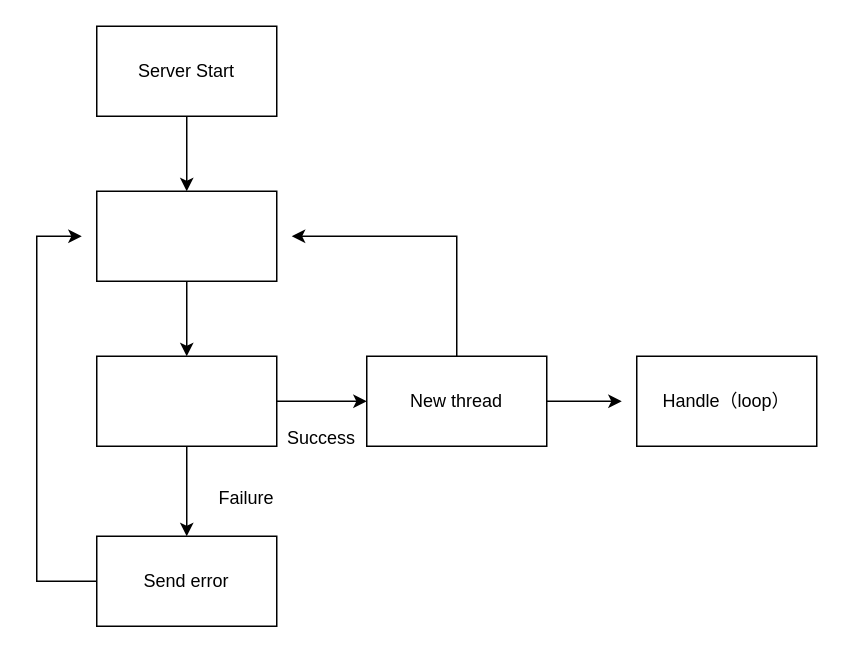
The diagram is 843 pixels wide and 653 high, and some of its shapes have lost their labels. Here are the shapes that lost their labels. From the top down, the box of each, then its label:
(95, 190, 277, 281): Listen (block)
(95, 355, 277, 446): Handle
